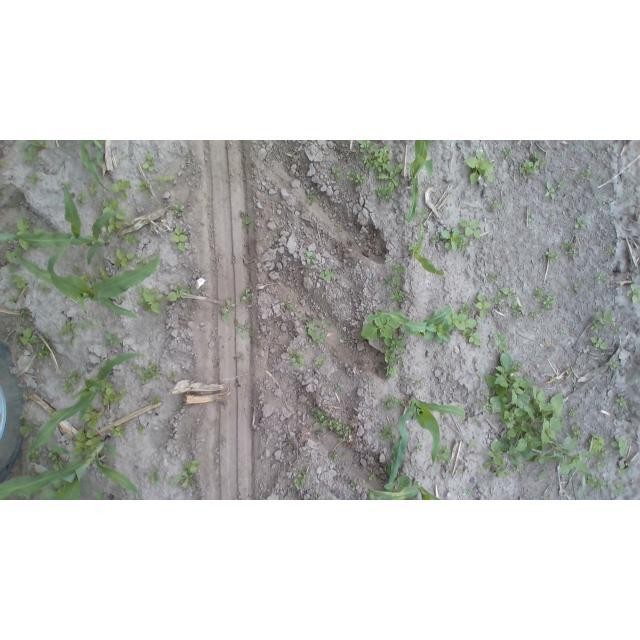Maize: (15, 235, 161, 321), (29, 354, 146, 455), (0, 184, 128, 266), (1, 436, 144, 500), (389, 394, 466, 485), (367, 307, 454, 337), (409, 141, 434, 224), (80, 140, 115, 192), (415, 220, 446, 278), (365, 478, 440, 500)
Weeds: (484, 352, 593, 477), (361, 309, 402, 337), (467, 150, 495, 184), (172, 460, 200, 489), (364, 144, 391, 172), (304, 315, 329, 345), (383, 333, 407, 364), (137, 287, 163, 314), (520, 150, 547, 176), (378, 164, 403, 192), (73, 430, 103, 453), (23, 141, 50, 166), (313, 410, 344, 431), (99, 382, 125, 405), (452, 310, 478, 331), (441, 230, 467, 251), (60, 320, 93, 335), (111, 179, 133, 201), (85, 407, 105, 430), (459, 220, 482, 239), (172, 228, 189, 253), (167, 286, 191, 303), (141, 363, 162, 382), (591, 433, 608, 456), (17, 327, 37, 346), (476, 293, 491, 317), (562, 238, 579, 259), (113, 250, 135, 266), (495, 330, 511, 352), (462, 330, 483, 346), (437, 320, 452, 342), (235, 320, 253, 338), (611, 437, 629, 455), (381, 394, 403, 408), (610, 480, 627, 497), (289, 349, 305, 367), (542, 295, 558, 313), (143, 153, 158, 172), (438, 444, 453, 463), (375, 186, 394, 201), (597, 309, 617, 323), (627, 284, 640, 305), (589, 336, 607, 351), (102, 200, 122, 213), (104, 332, 122, 346), (4, 250, 16, 271), (347, 172, 366, 185), (294, 474, 309, 490), (11, 276, 29, 289), (15, 217, 30, 232), (238, 212, 254, 226), (220, 299, 230, 321), (581, 474, 590, 498), (383, 275, 401, 287), (108, 218, 123, 232), (595, 271, 609, 286), (69, 368, 82, 384), (358, 140, 375, 152), (38, 345, 51, 360), (382, 425, 395, 440), (590, 321, 603, 336), (502, 286, 518, 298), (125, 234, 140, 246), (576, 216, 591, 228), (545, 181, 555, 199), (320, 268, 334, 280), (568, 424, 582, 436), (610, 323, 624, 335), (30, 453, 45, 464), (63, 382, 78, 393), (392, 291, 407, 301), (138, 180, 150, 192), (610, 361, 623, 372), (534, 286, 545, 299), (546, 249, 559, 260), (386, 366, 397, 378), (595, 478, 607, 489), (367, 467, 377, 480), (307, 252, 317, 265), (391, 265, 407, 273), (78, 194, 89, 205), (20, 425, 32, 435), (88, 182, 98, 194), (314, 356, 326, 366), (495, 292, 503, 307), (38, 283, 48, 294), (98, 269, 108, 280), (29, 175, 40, 185), (618, 467, 629, 477), (52, 461, 64, 470), (112, 427, 124, 436), (487, 273, 499, 282), (500, 149, 512, 158), (323, 376, 332, 387), (157, 176, 164, 190), (417, 208, 430, 215), (173, 205, 183, 214), (336, 381, 345, 391), (331, 167, 341, 176), (117, 212, 128, 220), (242, 289, 250, 300), (48, 453, 60, 460), (165, 175, 177, 182), (569, 408, 578, 417), (618, 397, 627, 406), (407, 242, 416, 251), (82, 274, 92, 282), (588, 476, 596, 486), (331, 450, 337, 463), (168, 371, 176, 380), (22, 311, 31, 319), (510, 300, 519, 308), (573, 282, 581, 291), (605, 246, 614, 254), (490, 200, 499, 208), (8, 296, 18, 303), (593, 462, 603, 469), (512, 309, 520, 317), (1, 158, 8, 167), (476, 470, 485, 477), (432, 237, 441, 244), (463, 490, 475, 495), (151, 476, 158, 484), (139, 425, 146, 433), (467, 440, 475, 447), (19, 414, 30, 419), (96, 494, 105, 500), (152, 397, 161, 403), (531, 309, 540, 315), (529, 212, 534, 222), (73, 264, 80, 271), (558, 181, 565, 188), (287, 300, 293, 308), (581, 173, 589, 179), (119, 295, 126, 301), (132, 364, 137, 372), (475, 371, 481, 377), (69, 340, 75, 346), (474, 418, 481, 423), (350, 482, 355, 487), (154, 470, 158, 474), (551, 213, 555, 217)
